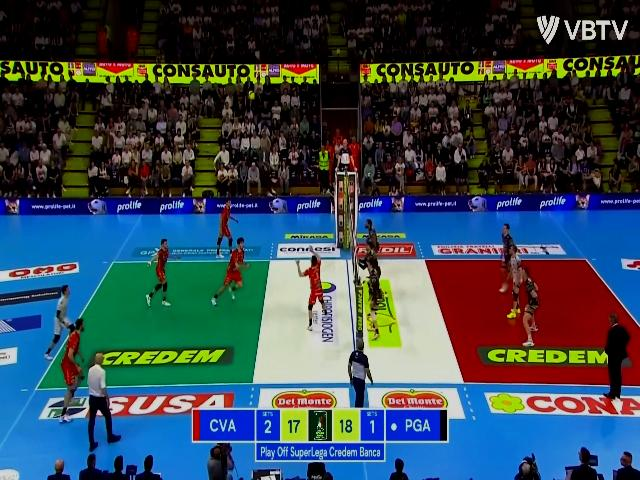volleyball court: (37, 258, 640, 389)
